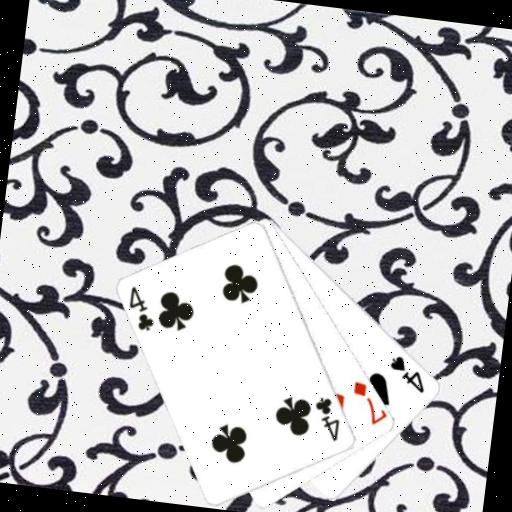4C: (123, 282, 161, 334), (308, 393, 345, 444)
4S: (385, 352, 431, 396)
7D: (347, 378, 392, 429)
